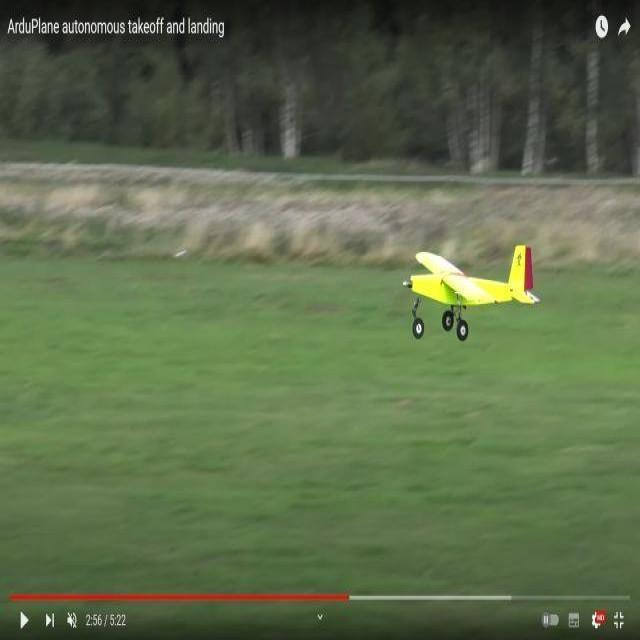Airplane: (394, 239, 544, 342)
